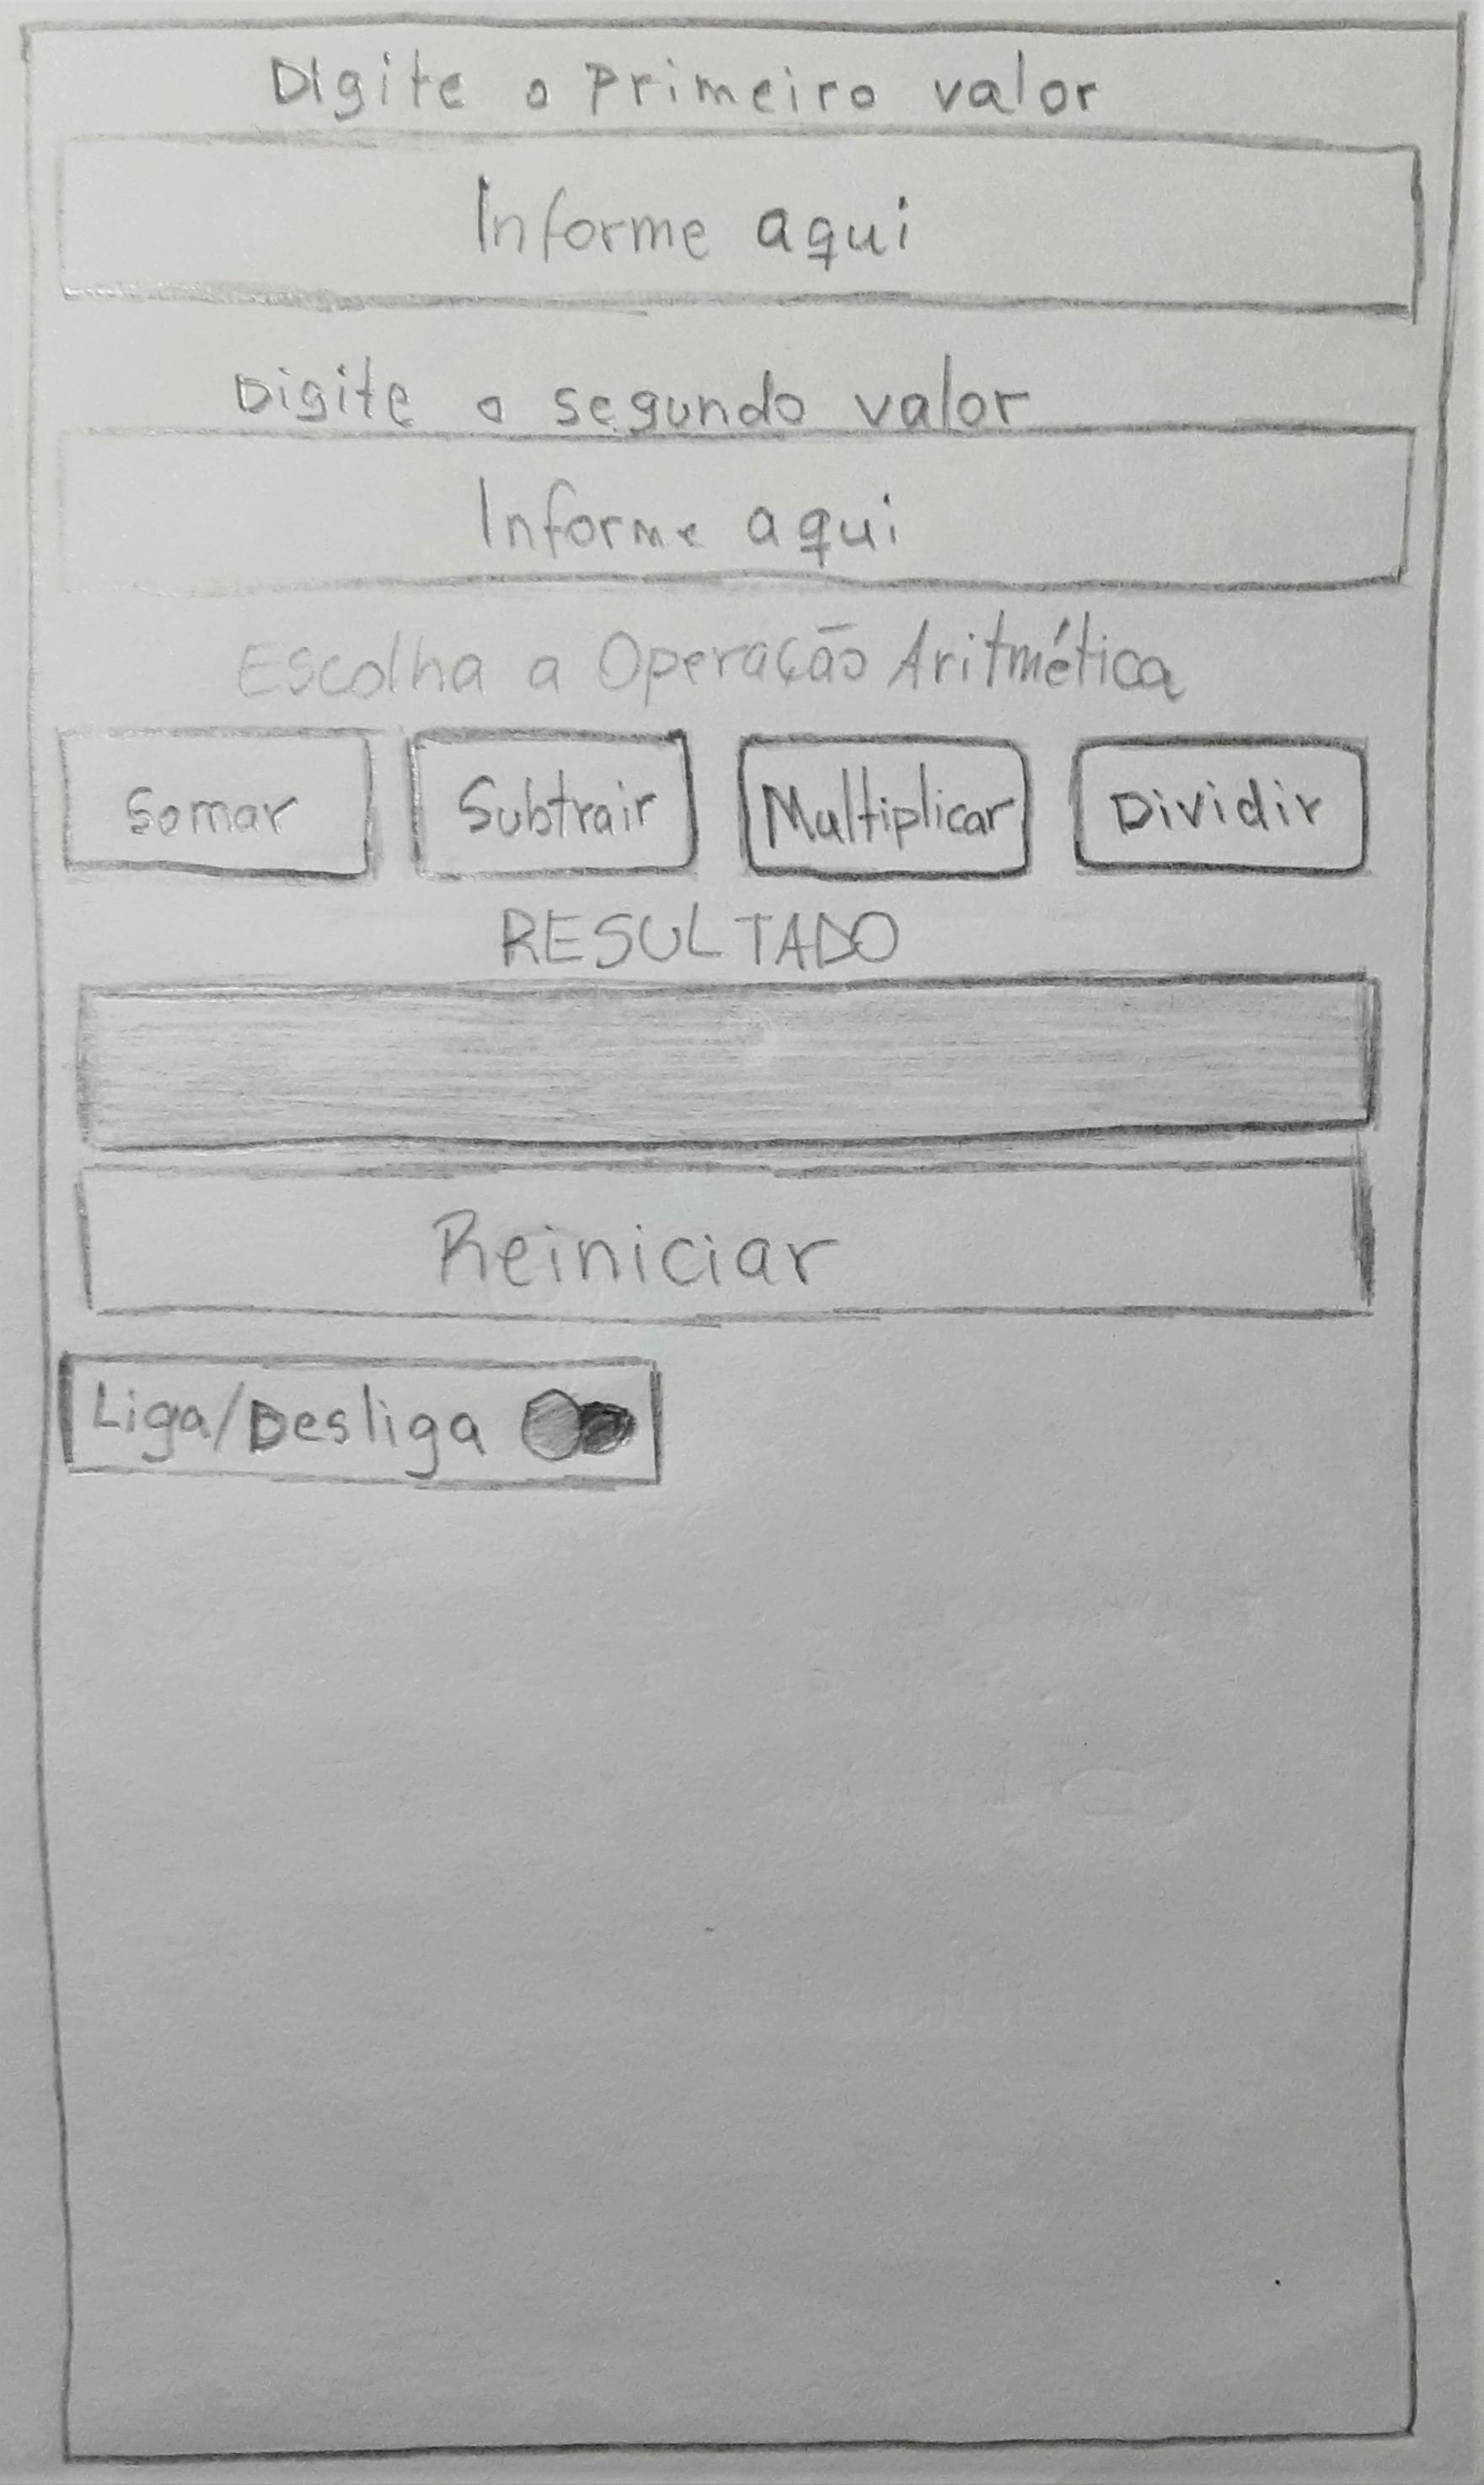Button: (55, 132, 1427, 318), (51, 424, 1419, 597), (72, 1153, 1373, 1321), (55, 724, 380, 881), (405, 726, 701, 881), (1071, 733, 1367, 880), (735, 735, 1030, 881)
Label: (237, 609, 1185, 705), (228, 359, 1034, 427), (269, 55, 1102, 118), (498, 904, 896, 973)
Screen: (21, 11, 1461, 2467)
Switch: (76, 1371, 640, 1477)
TextBox: (74, 971, 1383, 1152)
